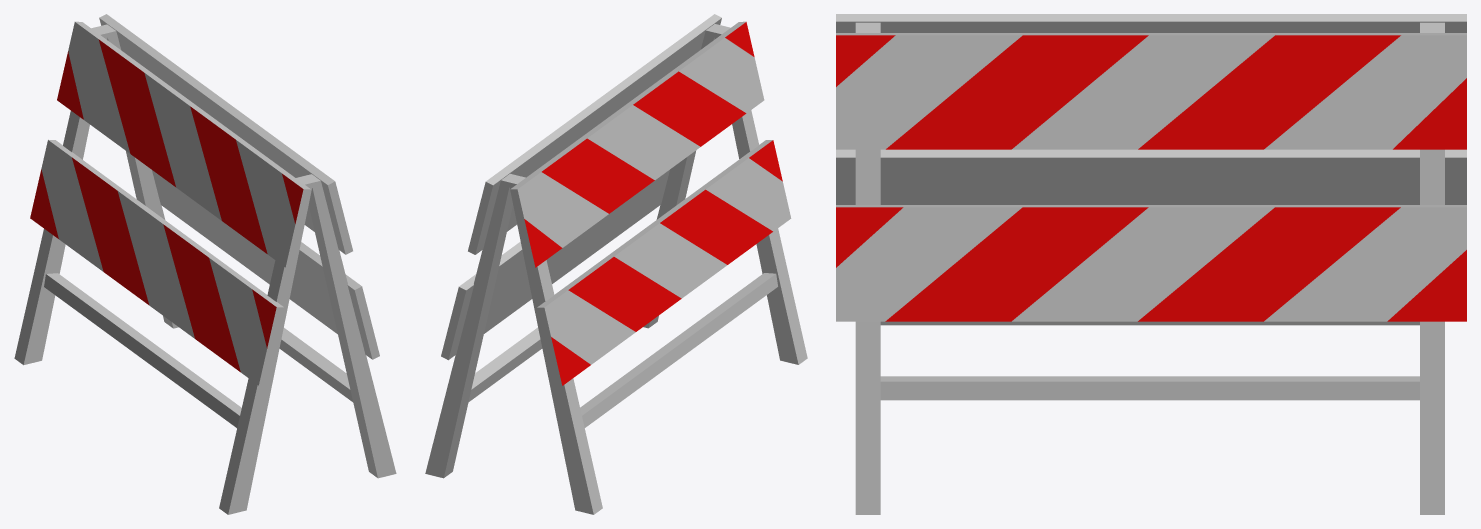
File: Barrier-03.fbx
3 renders of one model, left to right at view 1: azimuth 30°, elevation 25°; view 2: azimuth 150°, elevation 25°; view 3: azimuth 270°, elevation 25°, orthographic. The views are drawn at different scales.
Parts seen in each view (by area): view 1: Barrier-03; view 2: Barrier-03; view 3: Barrier-03.
Part boxes in pixels (x1,y1,x2,y2): Barrier-03: (14,14,396,514); Barrier-03: (425,14,807,514); Barrier-03: (836,14,1466,514).
Size of what is drawn, in the model's own units: 0.5656 by 1.01 by 1.33.
